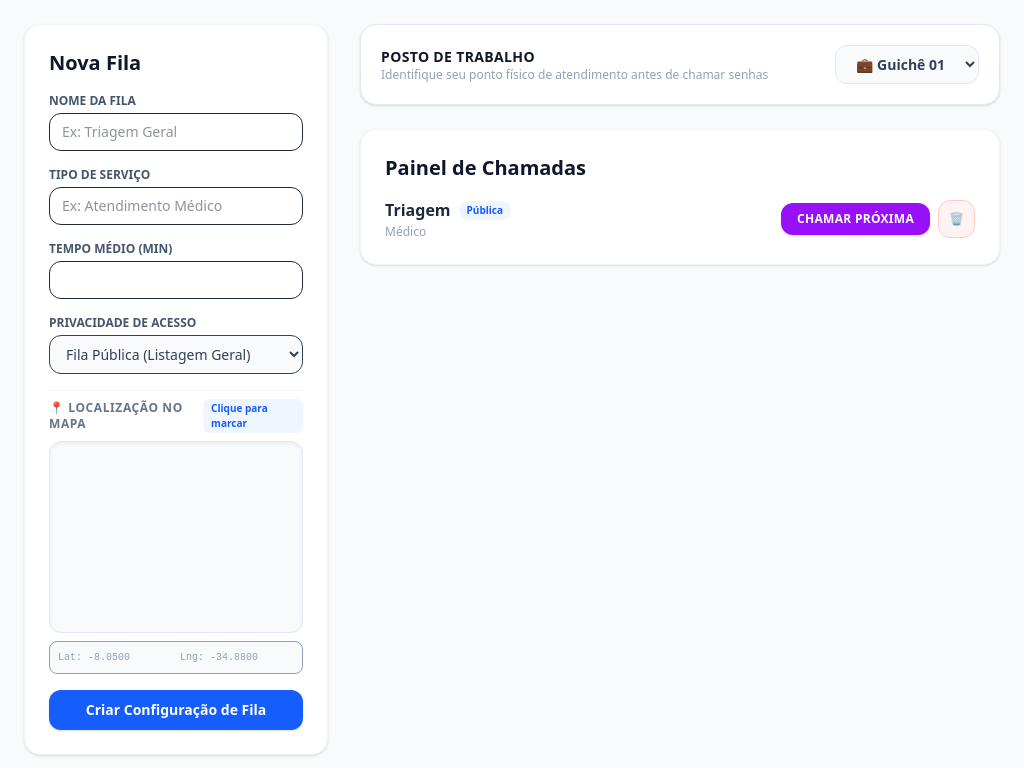
it: AdminDashboard — página › exibe sucesso após remover fila
Click the button titled "Remover Fila" at [956, 219], box left=938, top=200, right=975, bottom=238
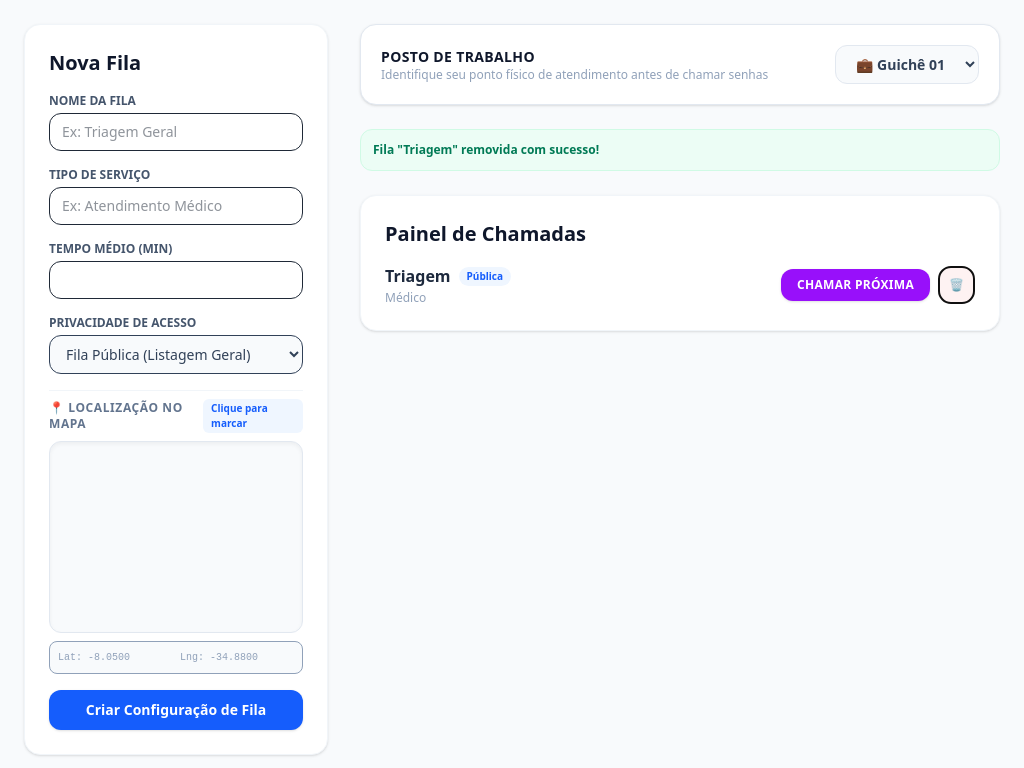
expect the text "Fila \"Triagem\" removida com sucesso!" is shown: met, box left=360, top=129, right=1000, bottom=171
